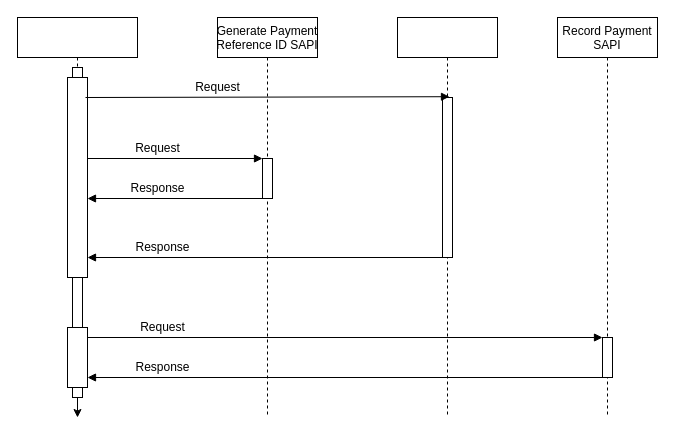
The diagram is 675 pixels wide and 443 high, and some of its shapes have lost their labels. The box of each missing label's shape, as (x1, y1, x2, y2) in pixels:
Record Payment Scheduler BAPI: (16, 16, 138, 398)
Retrieve Payment SAPI: (396, 16, 498, 418)
